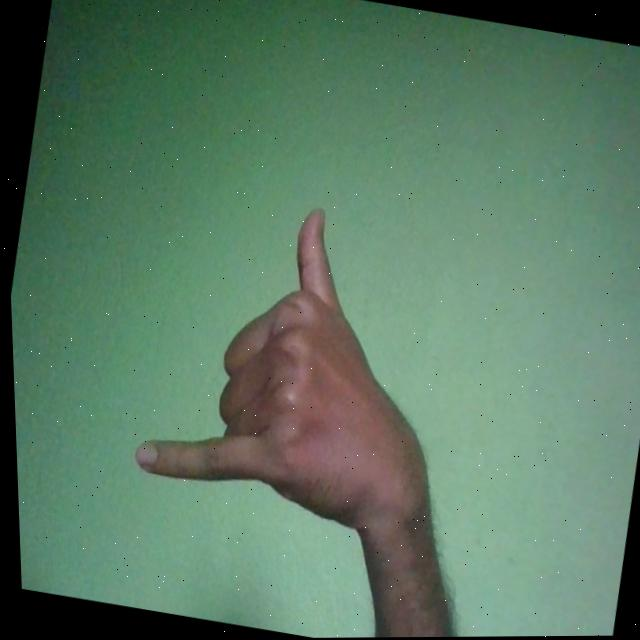Call Me: (117, 182, 466, 544)
